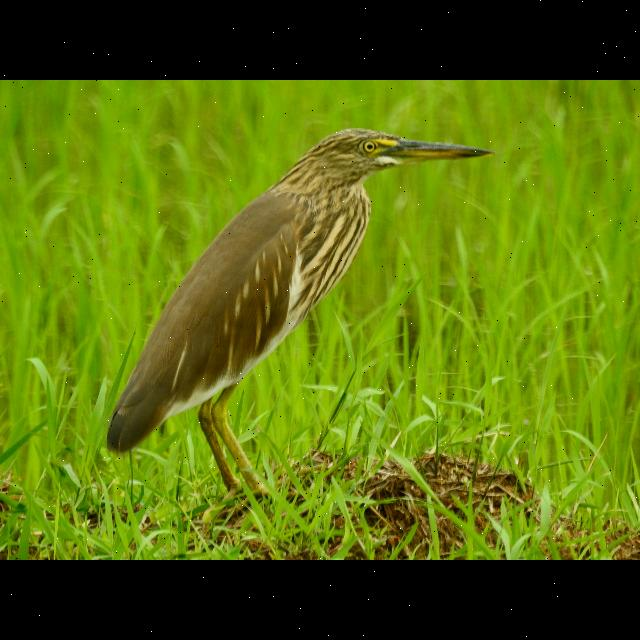heron: (97, 122, 497, 530)
